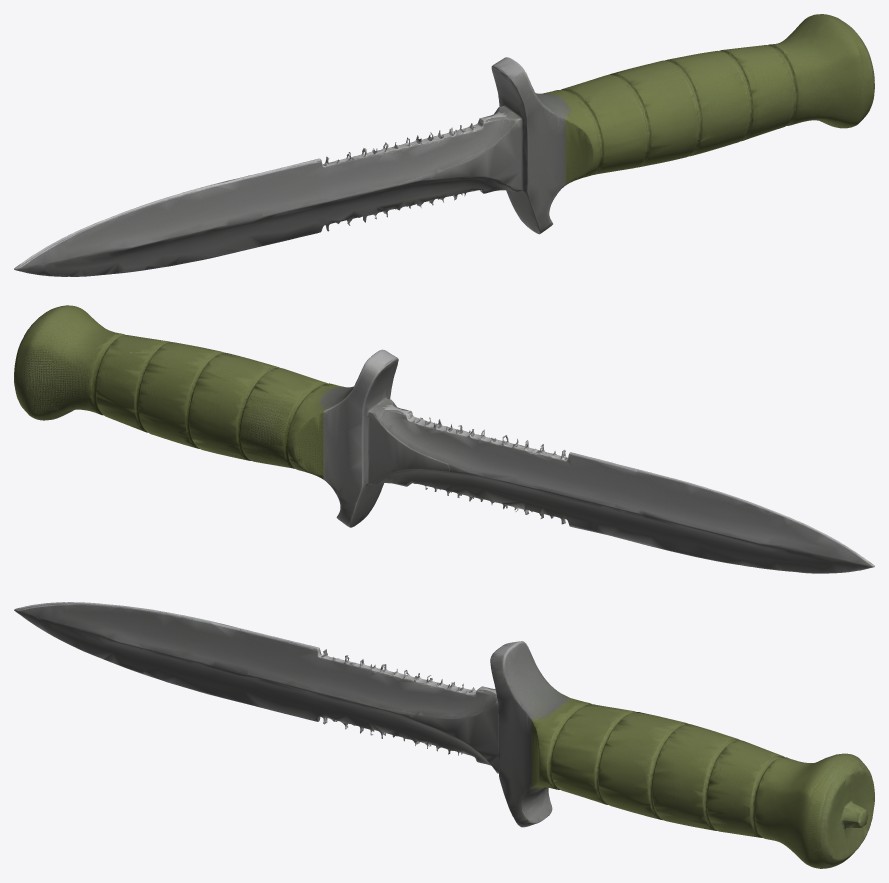
The model's file is Meshy_AI_knife_0807085337_texture.glb.
The picture shows the model from 3 angles, top to bottom: view 1: azimuth 30°, elevation 25°; view 2: azimuth 150°, elevation 25°; view 3: azimuth 330°, elevation 25°; orthographic projection.
Parts seen in each view (by area): view 1: Mesh1.0; view 2: Mesh1.0; view 3: Mesh1.0.
Boxes of the visible parts, left/top/right/bottom form: Mesh1.0: left=14, top=14, right=874, bottom=276; Mesh1.0: left=14, top=305, right=874, bottom=573; Mesh1.0: left=14, top=602, right=874, bottom=868.
Size of the model in its own units: 1.9 by 0.3696 by 0.2242.
Materials: 1 (1 with a texture image).
